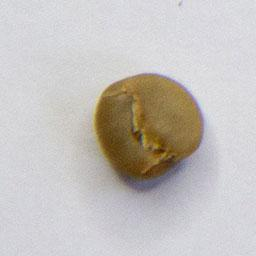defect: (91, 68, 207, 182)
